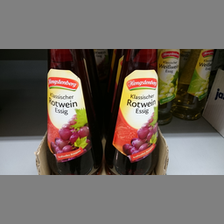vinegar: (44, 49, 103, 175), (108, 49, 161, 174)
